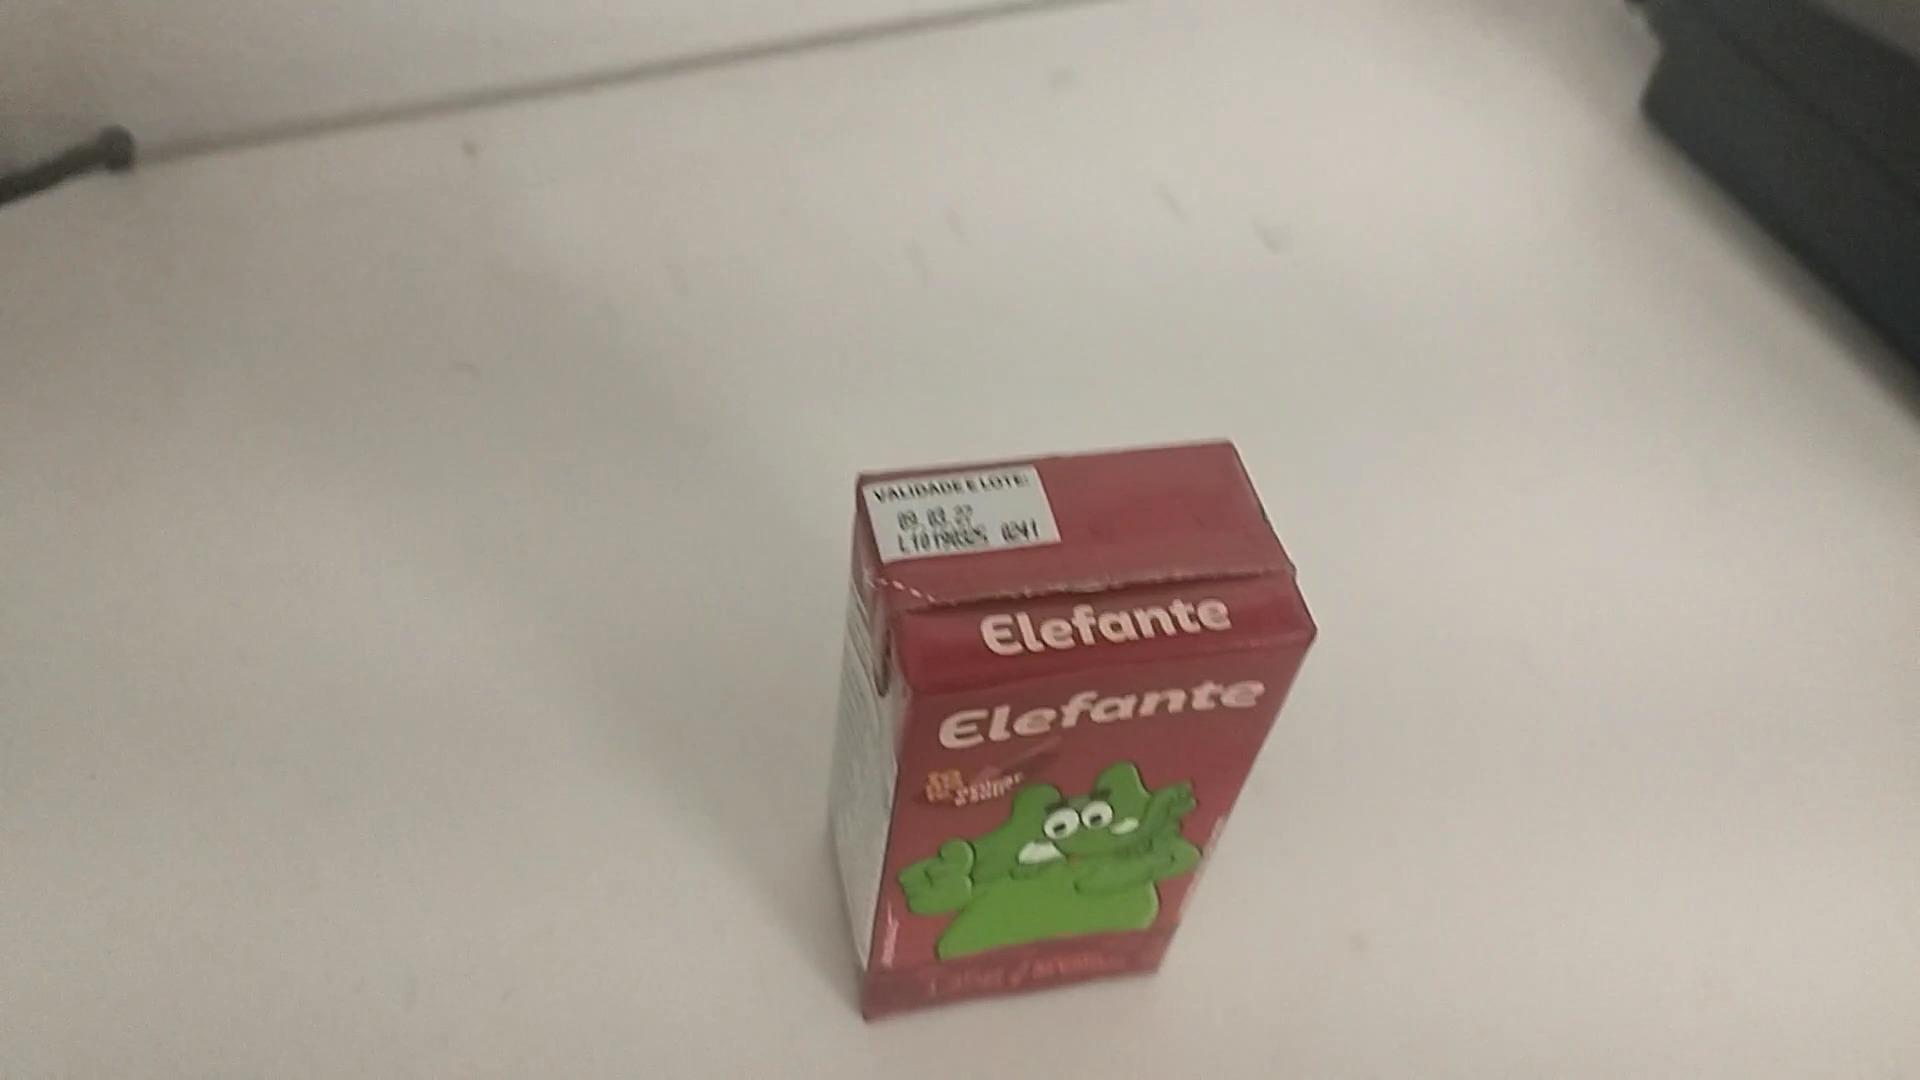tomate: (832, 435, 1320, 1022)
